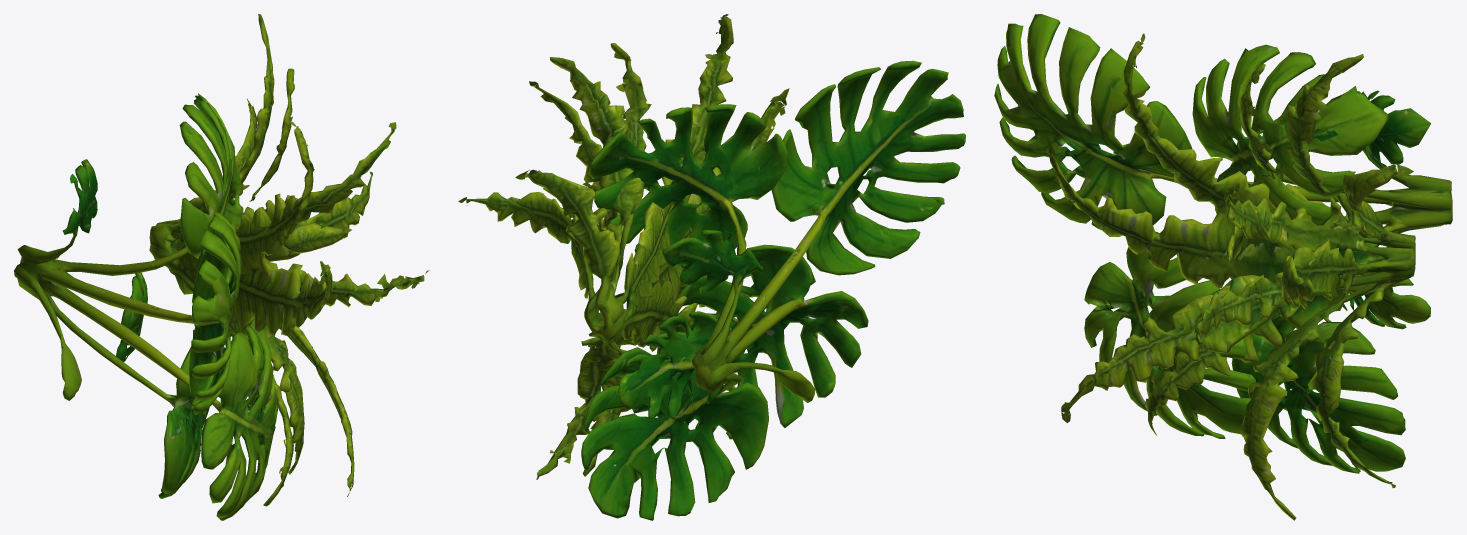
The model's file is tropical-foliage-tripo.glb.
The picture shows the model from 3 angles, left to right: view 1: azimuth 30°, elevation 25°; view 2: azimuth 150°, elevation 25°; view 3: azimuth 270°, elevation 25°; orthographic projection. The views are drawn at different scales.
Parts seen in each view (by area): view 1: Selected Tripo monstera, Selected Tripo fern; view 2: Selected Tripo monstera, Selected Tripo fern; view 3: Selected Tripo monstera, Selected Tripo fern.
Boxes of the visible parts, x1,y1,x2,y2 form: Selected Tripo monstera: (14,93,277,520); Selected Tripo fern: (149,14,429,506); Selected Tripo monstera: (581,60,965,520); Selected Tripo fern: (458,14,789,479); Selected Tripo monstera: (994,14,1452,473); Selected Tripo fern: (1046,33,1415,520).
Bounding box in the file's own units: 1.63 × 2 × 1.78.
Materials: 1 (1 with a texture image).
